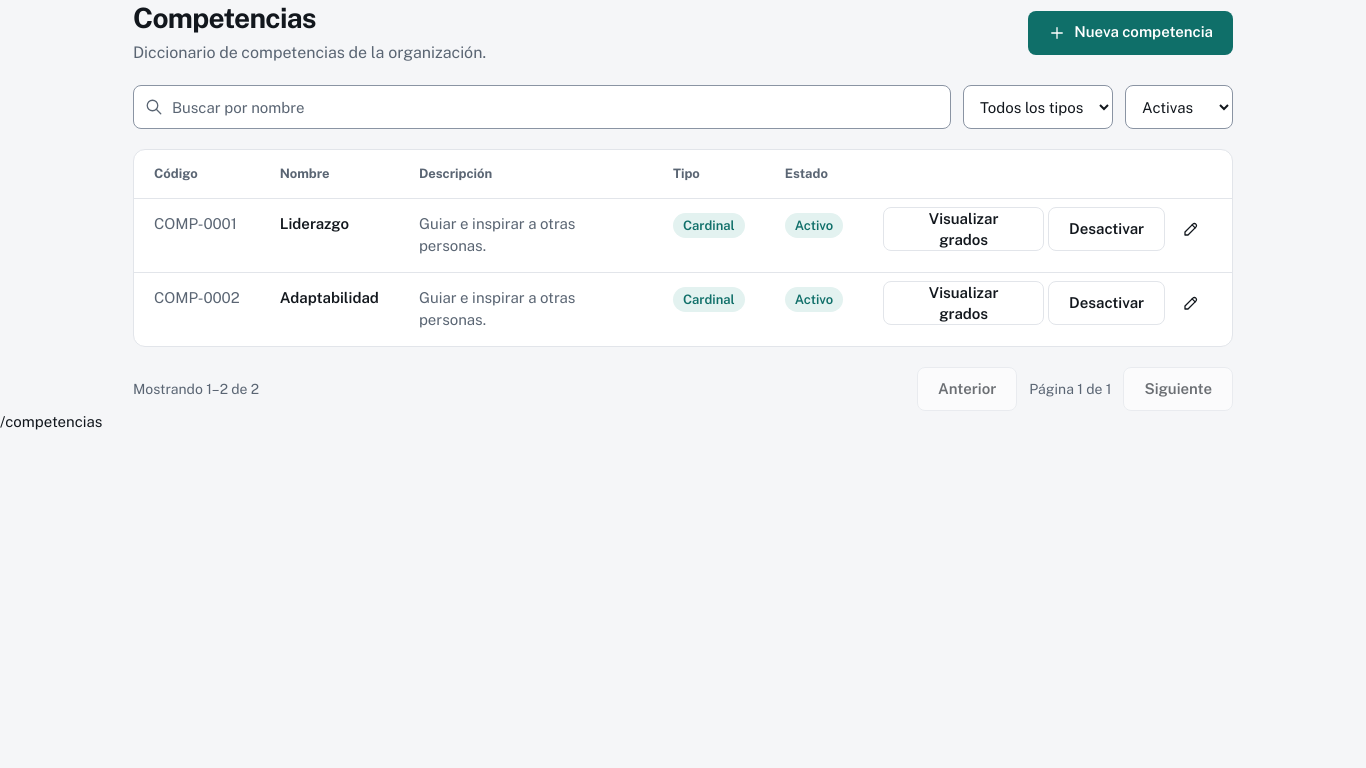
Test case: CompetenciasPage (activar y desactivar) › cancelar no cambia nada
Expected: the column heading "Liderazgo" is shown, 260,198 -> 399,272
Step 1. Click the button with aria-label "Desactivar Liderazgo" → (1107, 229), box 1048,207 -> 1165,251
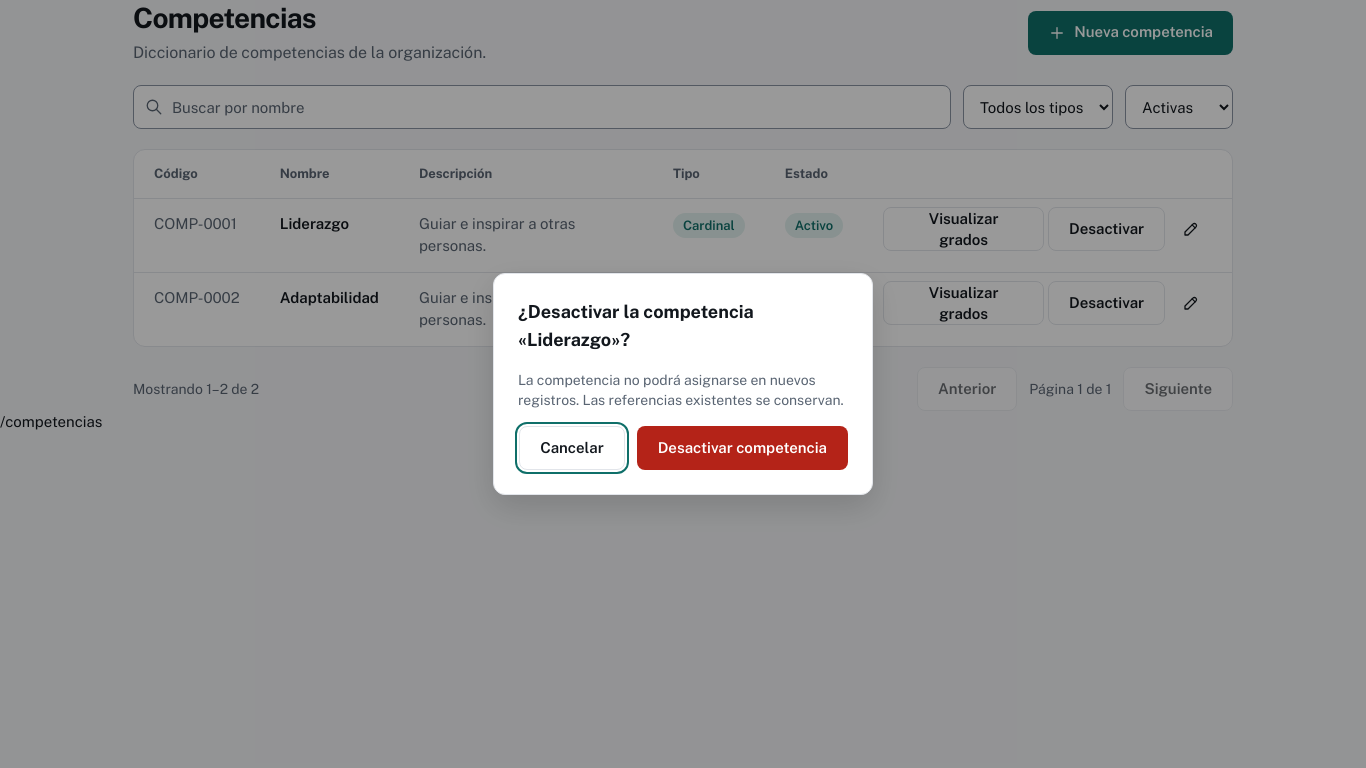
Step 2. Click the button "Cancelar" → (572, 448), box 519,426 -> 625,470
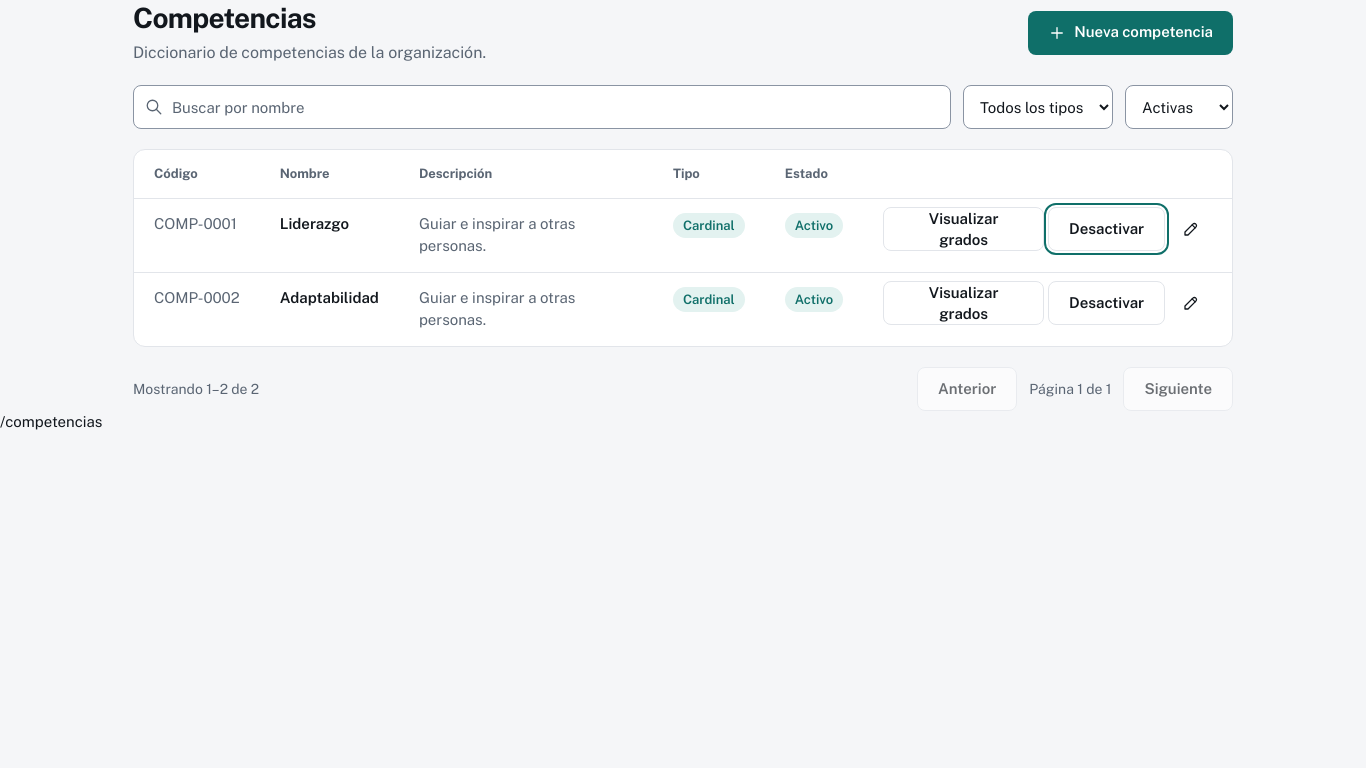
Expected: the dialog is gone
